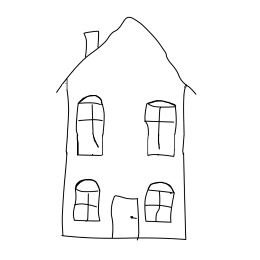chimney: (79, 27, 105, 65)
closed_window: (139, 93, 178, 162), (73, 90, 110, 162), (69, 176, 107, 226), (142, 180, 179, 230)
door: (108, 190, 141, 242)
single_line_roof: (51, 11, 201, 92)
wall: (57, 81, 189, 245)
